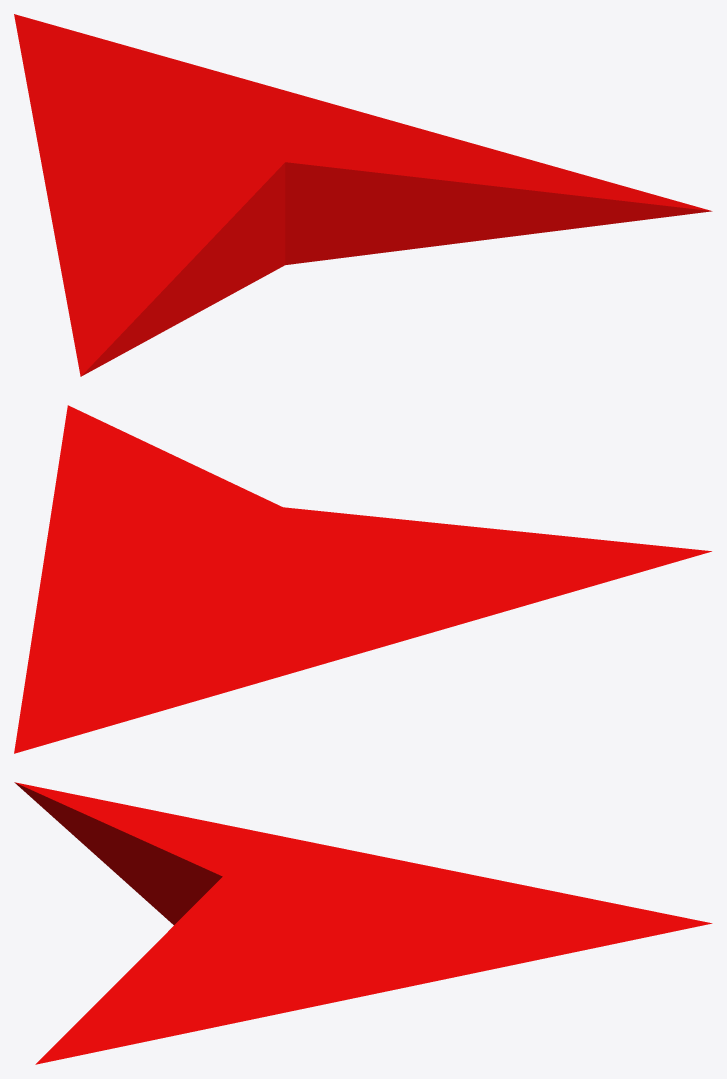
File: carArrow.glb
3 renders of one model, top to bottom at view 1: azimuth 30°, elevation 25°; view 2: azimuth 150°, elevation 25°; view 3: azimuth 270°, elevation 25°, orthographic. The views are drawn at different scales.
Parts seen in each view (by area): view 1: Cube; view 2: Cube; view 3: Cube.
Boxes of the visible parts, left/top/right/bottom form: Cube: left=14, top=14, right=712, bottom=376; Cube: left=14, top=405, right=711, bottom=753; Cube: left=14, top=782, right=712, bottom=1064.
Bounding box in the file's own units: 4.51 × 0.6894 × 4.71.
